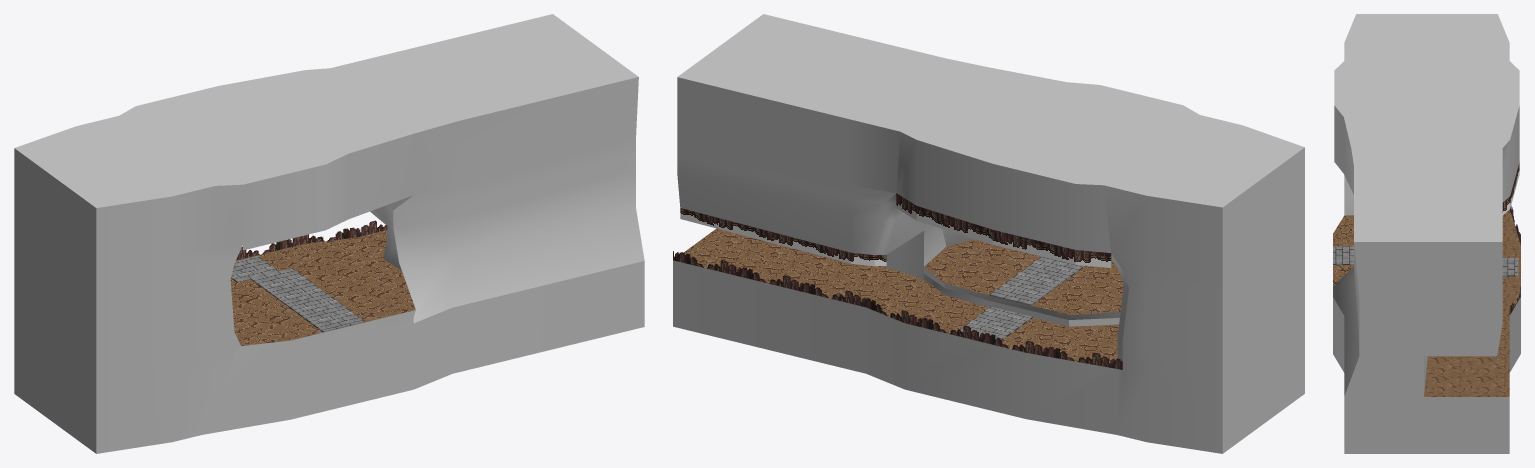
File: Room7.fbx
The picture shows the model from 3 angles, left to right: view 1: azimuth 30°, elevation 25°; view 2: azimuth 150°, elevation 25°; view 3: azimuth 270°, elevation 25°; orthographic projection. The views are drawn at different scales.
Parts seen in each view (by area): view 1: polySurface282; view 2: polySurface282; view 3: polySurface282.
Part boxes in pixels (left/top/right/bottom): polySurface282: left=14, top=14, right=644, bottom=453; polySurface282: left=673, top=14, right=1304, bottom=453; polySurface282: left=1333, top=14, right=1520, bottom=453.
Bounding box in the file's own units: 13.12 × 5.69 × 4.57.
